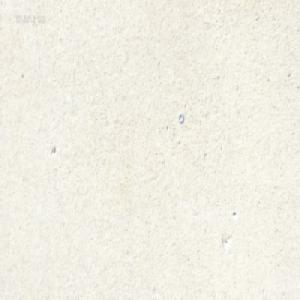Washer: (177, 112, 184, 123)
